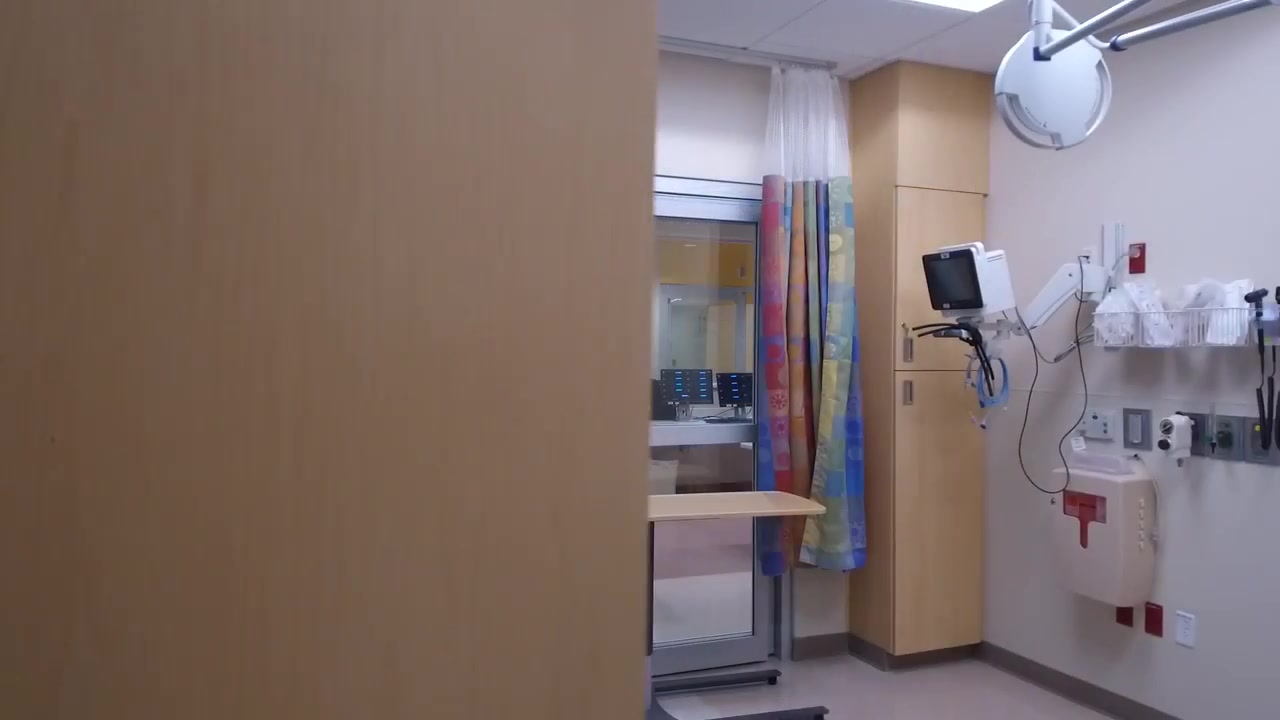bedside_monitor: (920, 240, 987, 312)
cabinet: (851, 62, 990, 669)
computer: (661, 369, 714, 405), (716, 372, 753, 407)
curtain: (758, 65, 867, 577)
handle: (901, 379, 915, 406), (902, 335, 915, 363)
medical_waste_container: (1045, 457, 1156, 608)
overbed_table: (645, 491, 830, 720)
surgical_light: (994, 24, 1115, 149)
